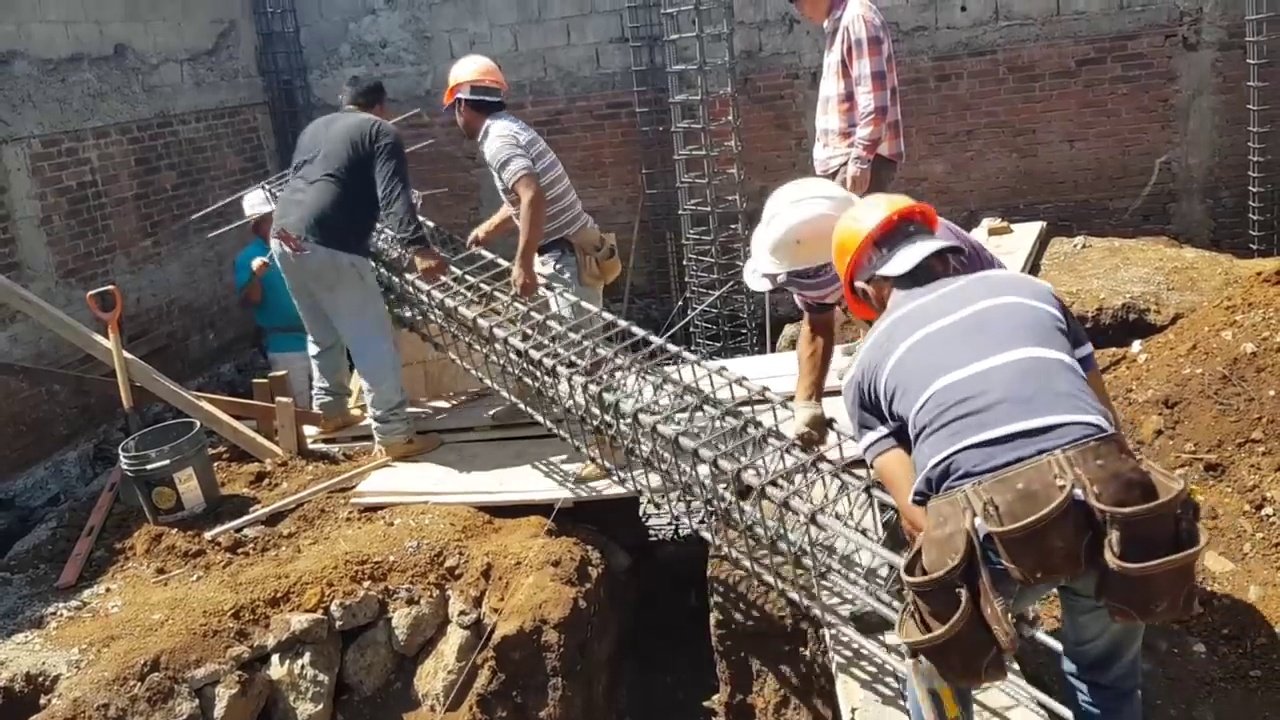helmet: (831, 190, 937, 309), (753, 175, 856, 281), (442, 54, 505, 109), (239, 186, 276, 219)
helmet-off: (338, 73, 388, 115), (786, 0, 839, 28)
helmet-on: (831, 189, 973, 329), (746, 177, 866, 317), (438, 53, 506, 143), (239, 186, 276, 244)
person: (844, 195, 1204, 716), (251, 74, 425, 471), (746, 175, 1003, 436), (440, 47, 620, 413), (786, 0, 900, 190), (230, 186, 324, 402)
